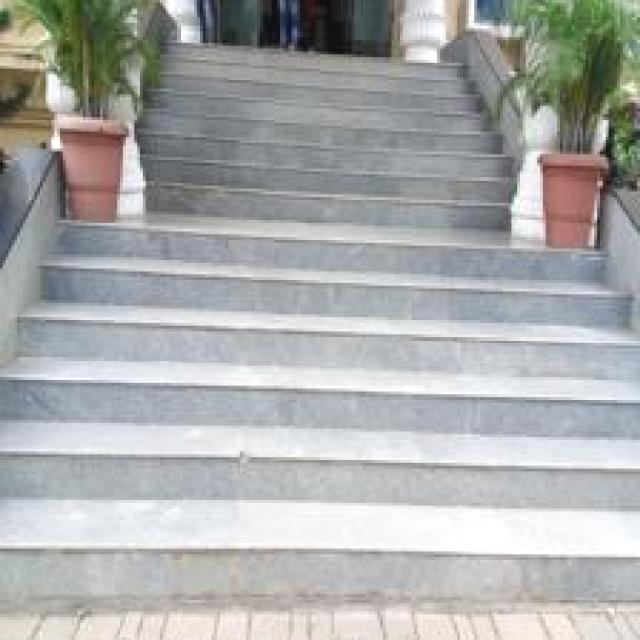upstair: (9, 290, 624, 618)
